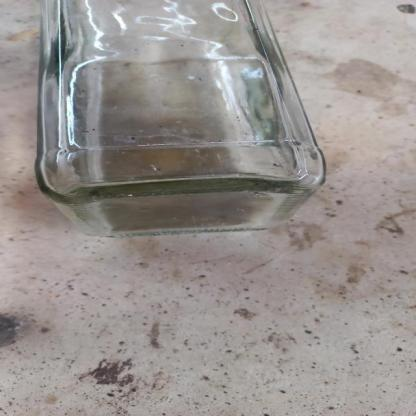Can: (33, 0, 327, 239)
